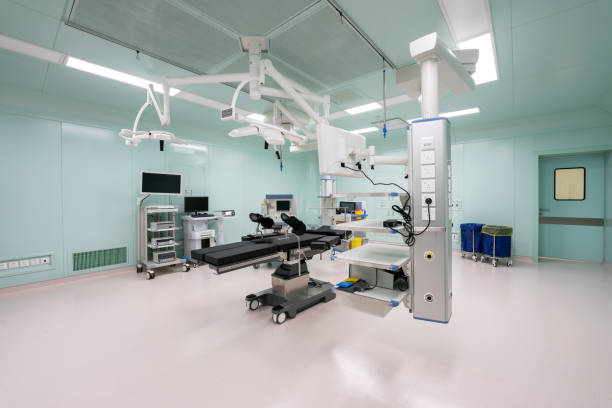bedside_monitor: (315, 123, 367, 179), (140, 170, 183, 195), (271, 198, 294, 214), (340, 201, 360, 215)
computer: (182, 196, 209, 213)
door_handle: (537, 206, 550, 216)
keyboard: (190, 213, 214, 217)
operating_bed: (190, 223, 352, 326)
surgical_light: (227, 123, 285, 146), (124, 127, 182, 147)
waste_bin: (481, 225, 514, 267), (459, 223, 486, 263)
